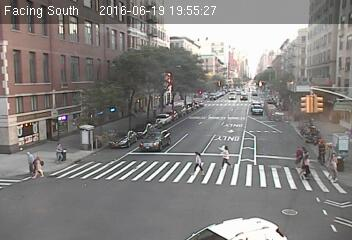neg: (156, 117, 172, 137), (141, 161, 155, 180), (113, 138, 127, 156), (152, 57, 165, 76), (207, 52, 220, 69), (209, 107, 220, 122), (114, 61, 125, 76), (192, 200, 202, 214), (103, 205, 113, 219), (74, 76, 83, 88), (249, 102, 256, 112), (261, 20, 268, 29)
pos: (323, 152, 346, 183), (186, 149, 208, 178), (48, 140, 69, 167), (296, 152, 316, 178), (216, 142, 235, 168), (27, 153, 46, 178), (19, 149, 37, 173), (290, 145, 306, 166)
